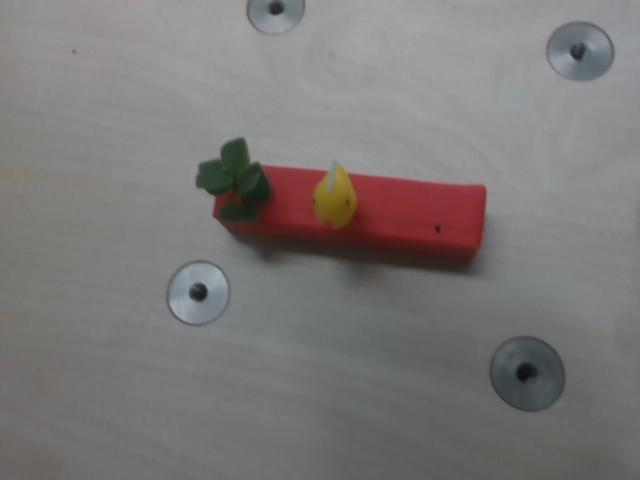leaf: (194, 138, 272, 221)
y_duck: (311, 163, 357, 236)
